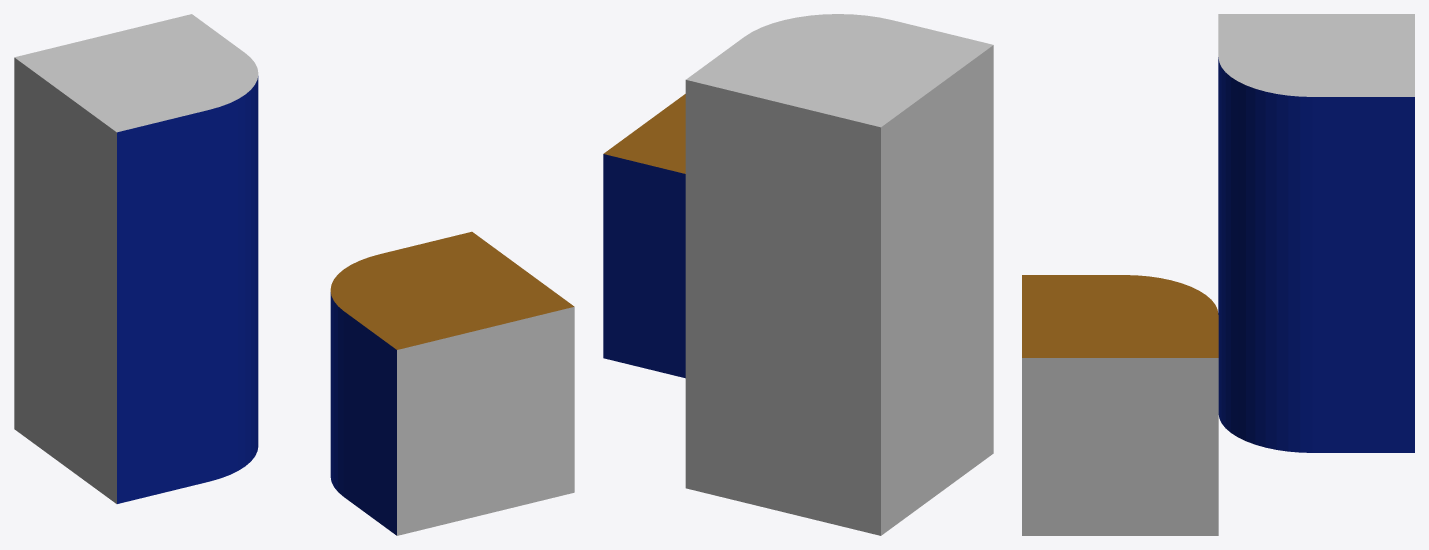
File: case_21.fbx
The picture shows the model from 3 angles, left to right: view 1: azimuth 30°, elevation 25°; view 2: azimuth 150°, elevation 25°; view 3: azimuth 270°, elevation 25°; orthographic projection. The views are drawn at different scales.
Visible parts, largest first — view 1: case_21; view 2: case_21; view 3: case_21.
Boxes of the visible parts, x1,y1,x2,y2 form: case_21: (14, 14, 574, 535); case_21: (603, 14, 993, 535); case_21: (1022, 14, 1414, 535).
Bounding box in the file's own units: 1 × 1 × 1.
